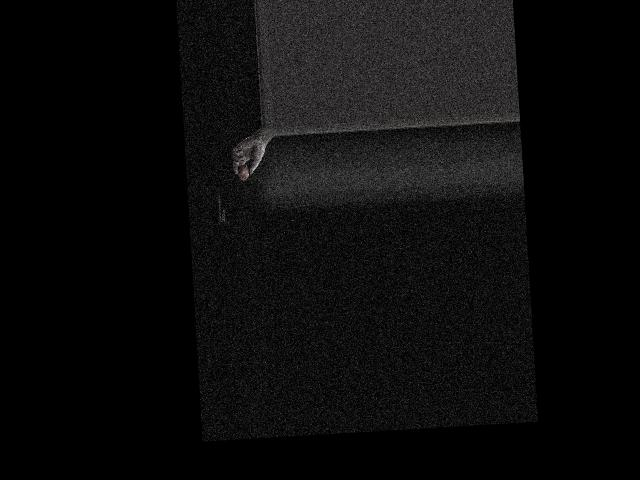egg: (237, 163, 249, 180)
